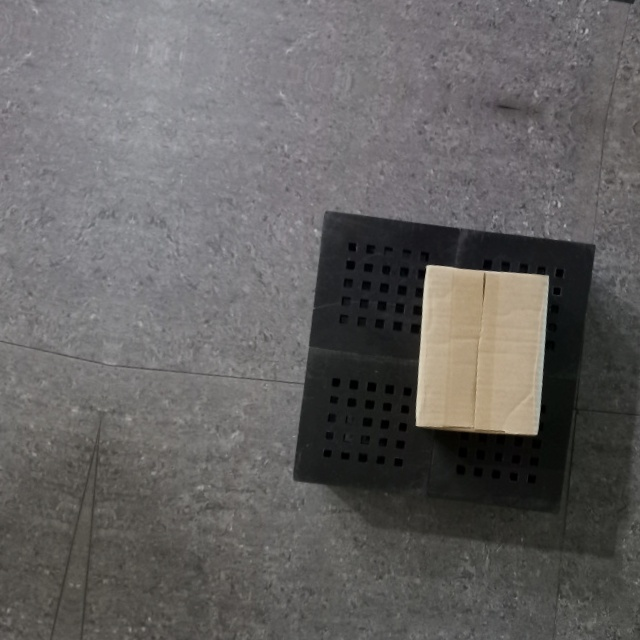box: (410, 261, 555, 443)
pallet: (277, 200, 611, 515)
